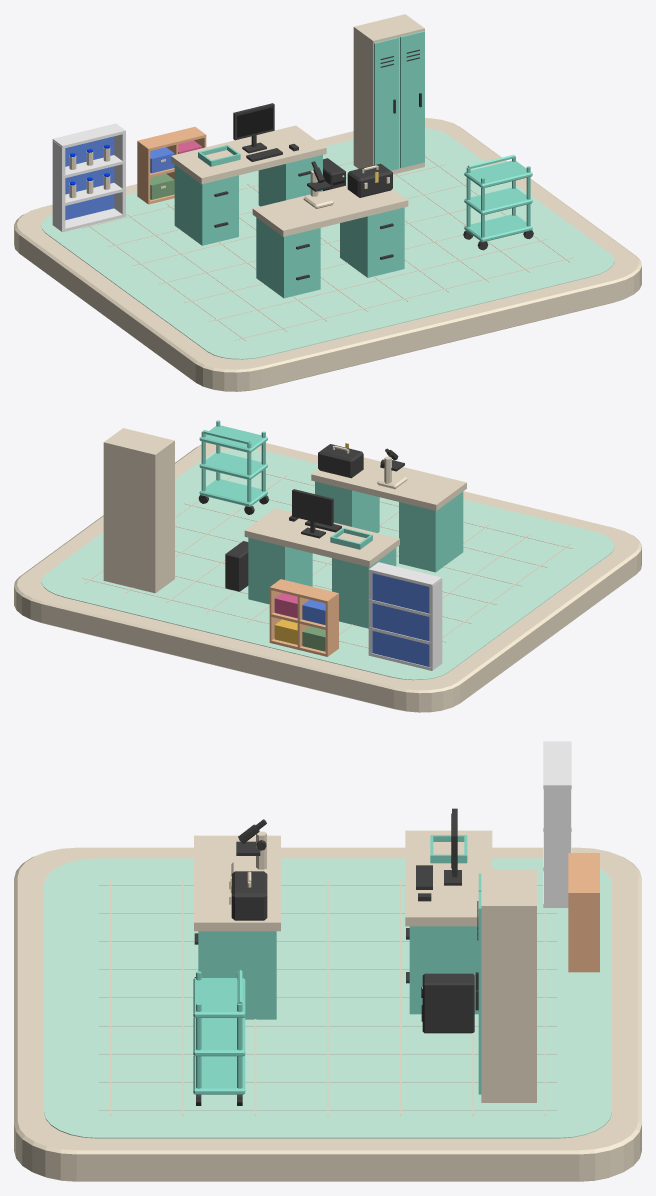
The picture shows the model from 3 angles, top to bottom: view 1: azimuth 30°, elevation 25°; view 2: azimuth 150°, elevation 25°; view 3: azimuth 270°, elevation 25°; orthographic projection. The views are drawn at different scales.
Parts seen in each view (by area): view 1: COM-02 Floor Surface, COM-01 Rounded Base Direct, Case.001, Worktop, Storage module.002, Storage module, Worktop.001, Storage module.001, Door.001, Door, Cabinet back, Storage module.003 (+14 smaller); view 2: COM-02 Floor Surface, COM-01 Rounded Base Direct, Case.001, Cabinet back, Storage module, Worktop.001, Worktop, Storage module.003, Storage module.002, Storage module.001, Frame, Case (+12 smaller); view 3: COM-02 Floor Surface, COM-01 Rounded Base Direct, Case.001, Worktop.001, Worktop, Storage module.001, Storage module.003, Tower, Clean supply cabinet side.001, Cubbies divider.002, Tray.002, Case (+10 smaller).
Part boxes in pixels (bbox=[...]): COM-02 Floor Surface: bbox=[41, 128, 614, 359]; COM-01 Rounded Base Direct: bbox=[14, 118, 641, 391]; Case.001: bbox=[353, 14, 424, 174]; Worktop: bbox=[252, 185, 408, 236]; Storage module.002: bbox=[174, 165, 238, 245]; Storage module: bbox=[256, 217, 320, 298]; Worktop.001: bbox=[171, 125, 326, 184]; Storage module.001: bbox=[340, 207, 404, 277]; Door.001: bbox=[400, 31, 424, 168]; Door: bbox=[374, 37, 398, 170]; Cabinet back: bbox=[65, 136, 114, 220]; Storage module.003: bbox=[258, 155, 322, 206]; COM-02 Floor Surface: bbox=[41, 448, 614, 680]; COM-01 Rounded Base Direct: bbox=[14, 442, 641, 712]; Case.001: bbox=[103, 428, 174, 593]; Cabinet back: bbox=[372, 573, 429, 666]; Storage module: bbox=[399, 492, 463, 572]; Worktop.001: bbox=[244, 508, 399, 566]; Worktop: bbox=[311, 457, 466, 510]; Storage module.003: bbox=[248, 537, 312, 604]; Storage module.002: bbox=[332, 548, 396, 628]; Storage module.001: bbox=[315, 481, 379, 532]; Frame: bbox=[292, 489, 333, 538]; Case: bbox=[318, 444, 363, 478]; COM-02 Floor Surface: bbox=[44, 858, 611, 1138]; COM-01 Rounded Base Direct: bbox=[14, 847, 641, 1181]; Case.001: bbox=[481, 870, 536, 1102]; Worktop.001: bbox=[405, 830, 492, 926]; Worktop: bbox=[194, 835, 280, 931]; Storage module.001: bbox=[198, 931, 276, 1019]; Storage module.003: bbox=[409, 926, 478, 1014]; Tower: bbox=[422, 973, 474, 1033]; Clean supply cabinet side.001: bbox=[544, 787, 570, 907]; Cubbies divider.002: bbox=[568, 893, 599, 972]; Tray.002: bbox=[193, 978, 245, 1017]; Case: bbox=[231, 871, 267, 920].
Size of the model in its own units: 6 by 2.1 by 5.2.
1 material, 1 textured.
